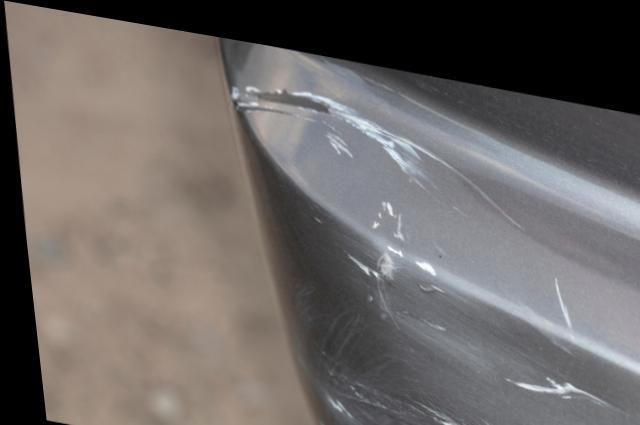scratch: (222, 70, 640, 425)
